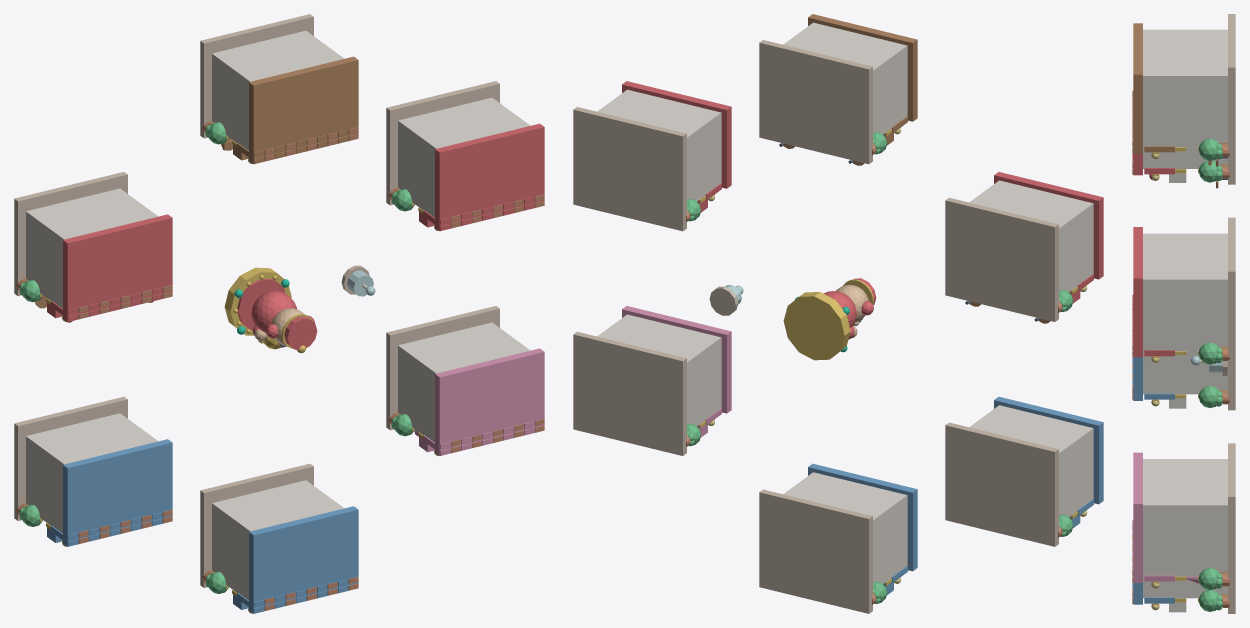
File: pho_xin_via_scene.glb
3 renders of one model, left to right at view 1: azimuth 30°, elevation 25°; view 2: azimuth 150°, elevation 25°; view 3: azimuth 270°, elevation 25°, orthographic.
Parts seen in each view (by area): view 1: cafe_roof_2, minimart_roof_2, sale_roof_2, restaurant_roof_2, pharmacy_roof_2, fashion_roof_2, sale_walls_1, restaurant_walls_1, cafe_walls_1, fashion_walls_1, pharmacy_walls_1, minimart_walls_1 (+10 smaller); view 2: pharmacy_plinth_0, sale_plinth_0, cafe_plinth_0, fashion_plinth_0, restaurant_plinth_0, minimart_plinth_0, pharmacy_walls_1, restaurant_walls_1, fashion_walls_1, cafe_walls_1, minimart_walls_1, sale_walls_1 (+7 smaller); view 3: cafe_walls_1, minimart_walls_1, fashion_walls_1, sale_walls_1, cafe_roof_2, minimart_roof_2, fashion_roof_2, minimart_plinth_0, fashion_plinth_0, cafe_plinth_0, pharmacy_walls_1, restaurant_walls_1 (+24 smaller).
Part boxes in pixels (x1,y1,x2,y2): cafe_roof_2: (249,56,358,164); minimart_roof_2: (435,123,544,231); sale_roof_2: (63,439,172,546); restaurant_roof_2: (63,214,172,321); pharmacy_roof_2: (249,506,358,613); fashion_roof_2: (435,348,544,455); sale_walls_1: (26,413,158,533); restaurant_walls_1: (26,188,158,308); cafe_walls_1: (212,30,344,150); fashion_walls_1: (398,322,530,442); pharmacy_walls_1: (212,480,344,600); minimart_walls_1: (398,97,530,217); pharmacy_plinth_0: (759,489,872,613); sale_plinth_0: (945,422,1058,546); cafe_plinth_0: (759,40,872,164); fashion_plinth_0: (573,331,686,455); restaurant_plinth_0: (945,197,1058,321); minimart_plinth_0: (573,107,686,231); pharmacy_walls_1: (783,472,907,583); restaurant_walls_1: (969,180,1093,292); fashion_walls_1: (597,314,721,426); cafe_walls_1: (783,22,907,134); minimart_walls_1: (597,89,721,201); sale_walls_1: (969,405,1093,516); cafe_walls_1: (1143,29,1227,147); minimart_walls_1: (1143,233,1227,350); fashion_walls_1: (1143,459,1227,576); sale_walls_1: (1143,351,1227,394); cafe_roof_2: (1133,23,1142,153); minimart_roof_2: (1133,227,1142,357); fashion_roof_2: (1133,452,1142,582); minimart_plinth_0: (1228,217,1235,366); fashion_plinth_0: (1228,443,1235,592); cafe_plinth_0: (1228,14,1235,162); pharmacy_walls_1: (1143,576,1227,598); restaurant_walls_1: (1143,147,1227,168).
Bounding box in the file's own units: 20.53 × 21.9 × 3.74.
